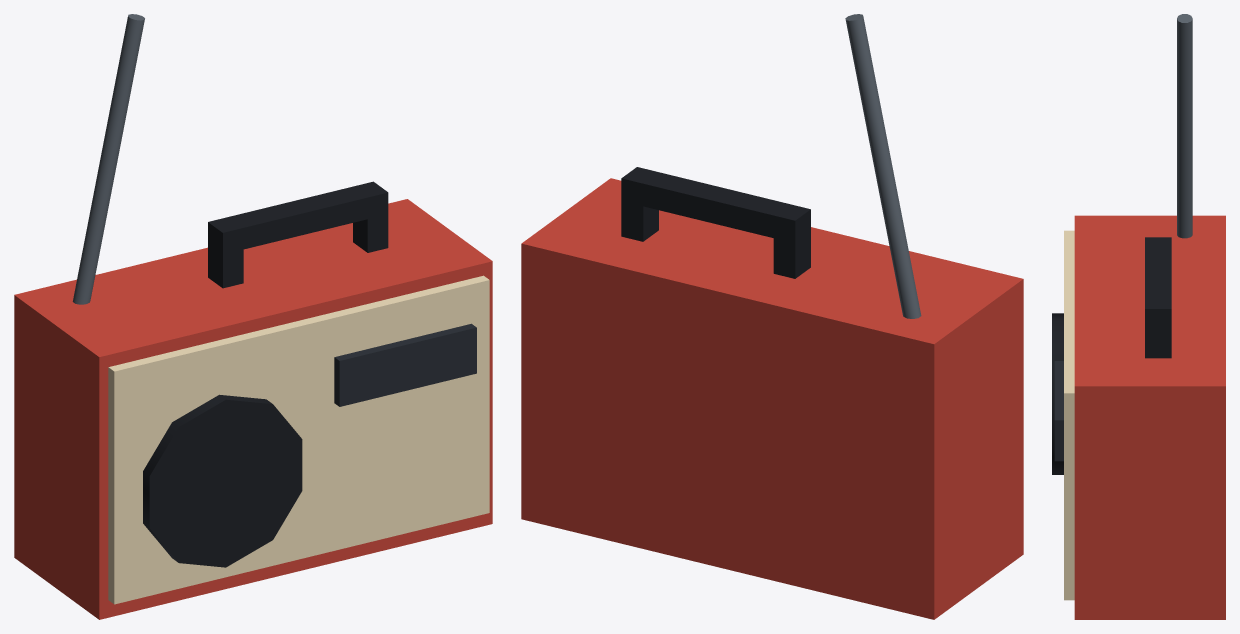
Rendered from bait_radio.glb.
3 views of the same model, side by side, from view 1: azimuth 30°, elevation 25°; view 2: azimuth 150°, elevation 25°; view 3: azimuth 270°, elevation 25° (orthographic). The views are drawn at different scales.
Visible parts, largest first — view 1: _MeshInstance3D_4495; view 2: _MeshInstance3D_4495; view 3: _MeshInstance3D_4495.
Part boxes in pixels (x1,y1,x2,y2): _MeshInstance3D_4495: (14,14,492,619); _MeshInstance3D_4495: (521,14,1023,619); _MeshInstance3D_4495: (1052,14,1225,619).
Bounding box in the file's own units: 0.2508 × 0.3257 × 0.1081.
